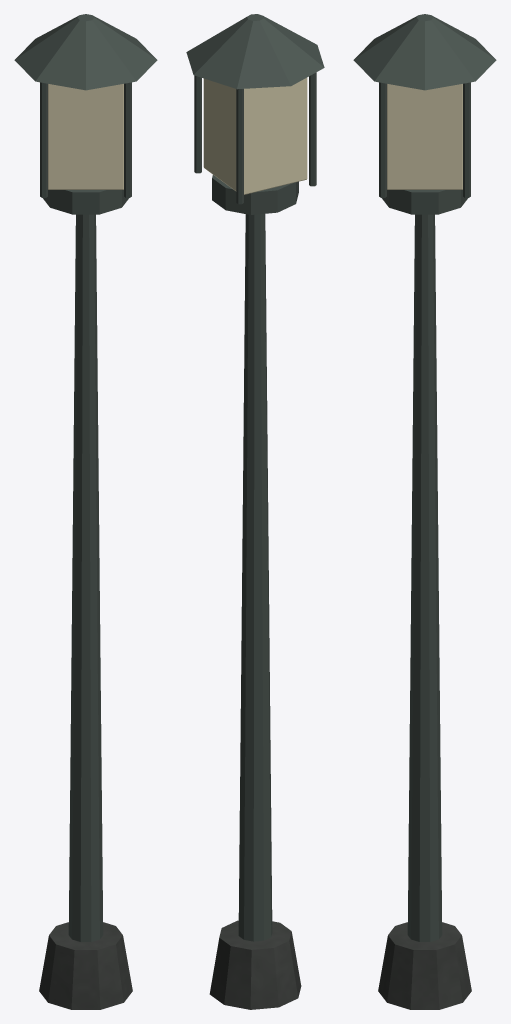
Rendered from park_lantern.glb.
3 views of the same model, side by side, from view 1: azimuth 90°, elevation 25°; view 2: azimuth 210°, elevation 25°; view 3: azimuth 270°, elevation 25° (orthographic).
Parts seen in each view (by area): view 1: park_lantern; view 2: park_lantern; view 3: park_lantern.
Part boxes in pixels (box(x1,y1,x2,y2)): park_lantern: box(14, 14, 157, 1009); park_lantern: box(186, 14, 324, 1009); park_lantern: box(353, 14, 496, 1009).
Size of the model in its own units: 0.58 by 4.35 by 0.58.
Materials: 3 (1 with a texture image).
